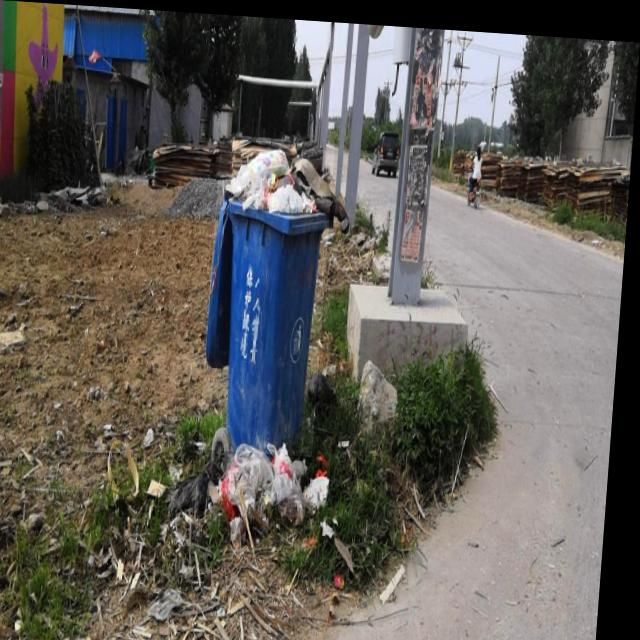garbage: (224, 431, 346, 535)
overflow: (205, 140, 337, 452)
